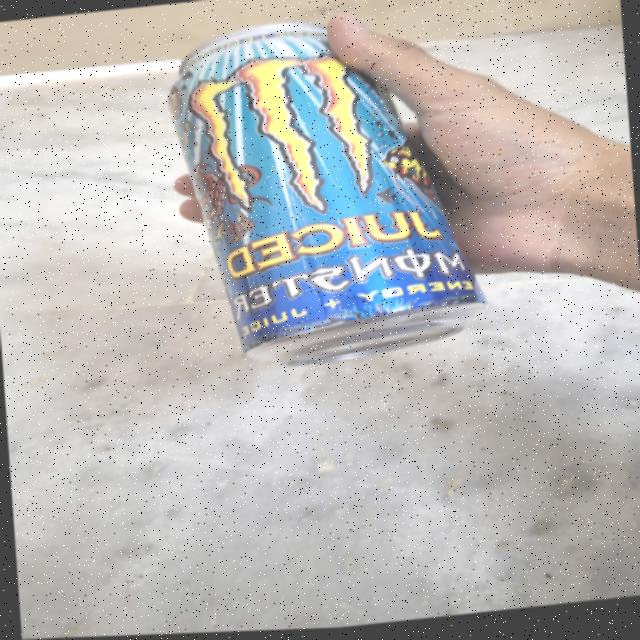Monster Aussie Lemonade: (177, 13, 440, 378)
